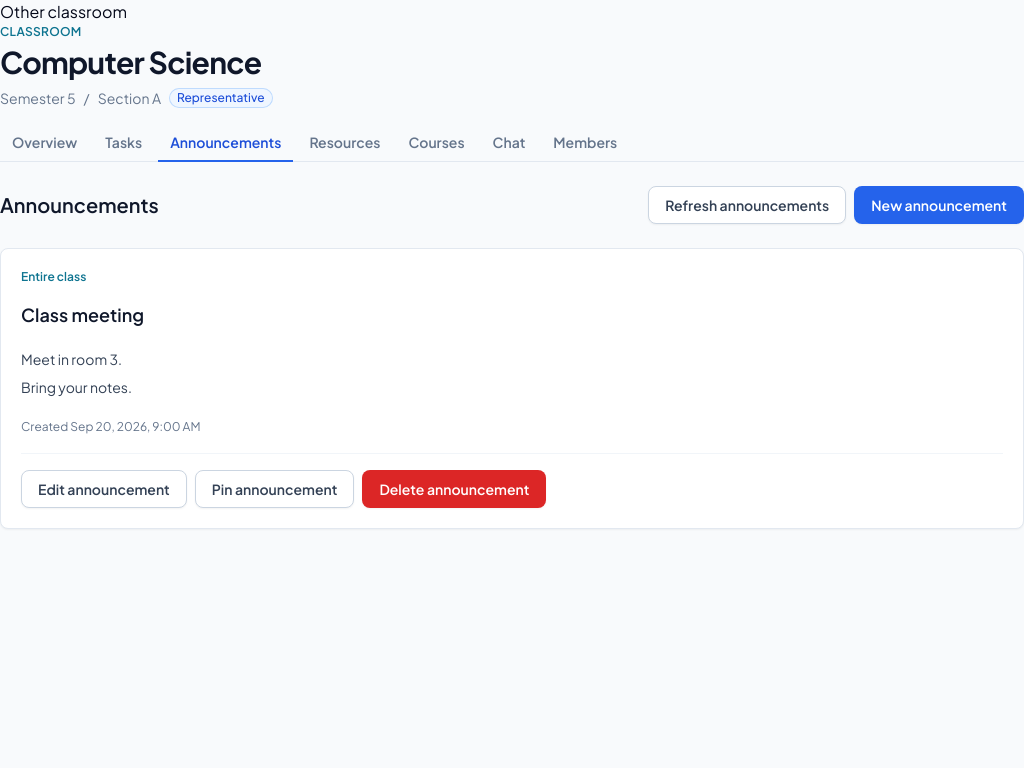
class announcements › preserves a failed form and submits Entire class as null on retry
The width and height of the screenshot is (1024, 768).
Click the button "New announcement": [939, 205] box [854,186,1023,224]
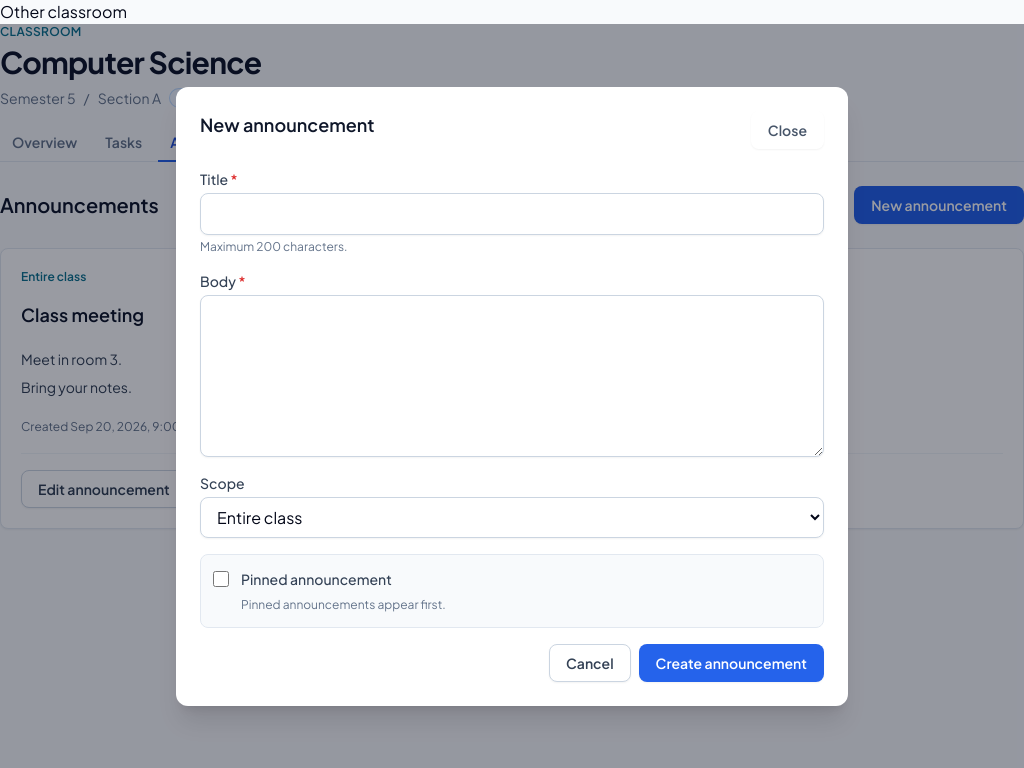
In the field labelled "Title *": [512, 214] box [200,192,824,234], type "Exam update"
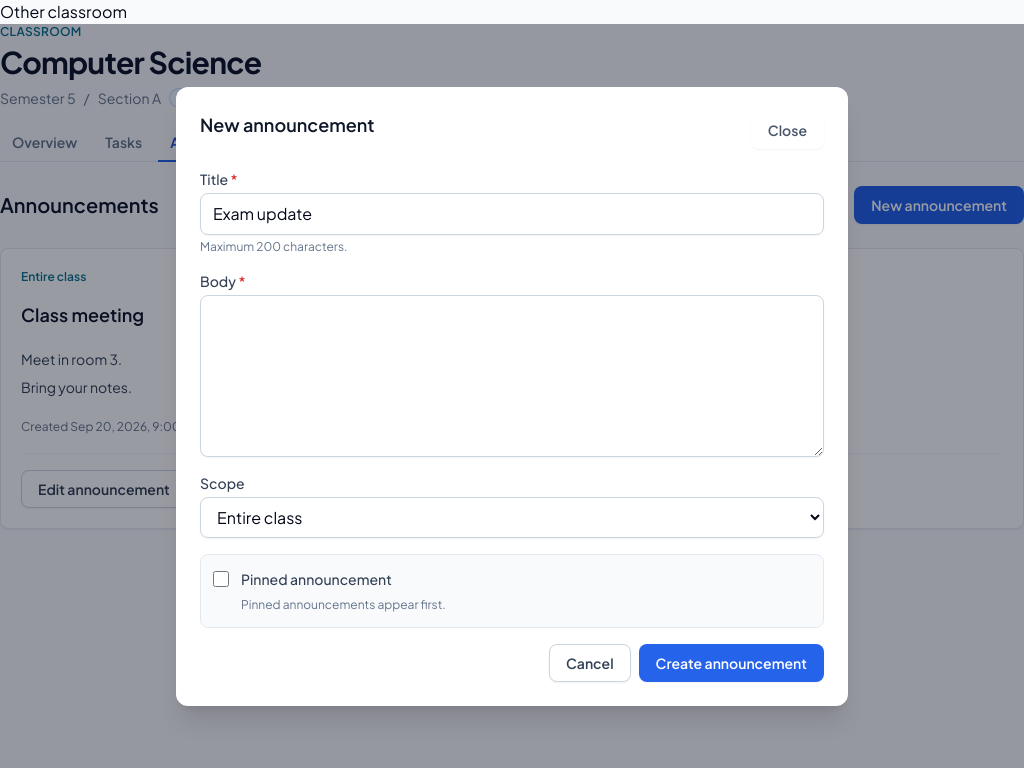
In the text box labelled "Body *": [512, 376] box [200,294,824,456], type "Bring a calculator."
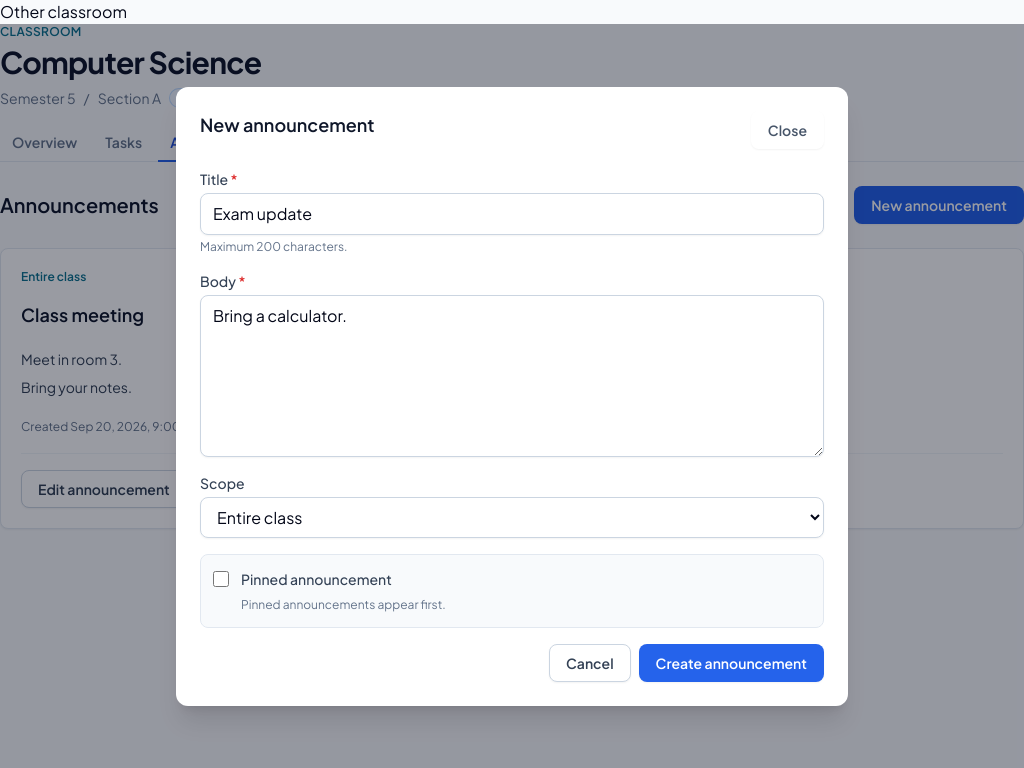
Click the button "Create announcement": [731, 662] box [639,644,824,682]
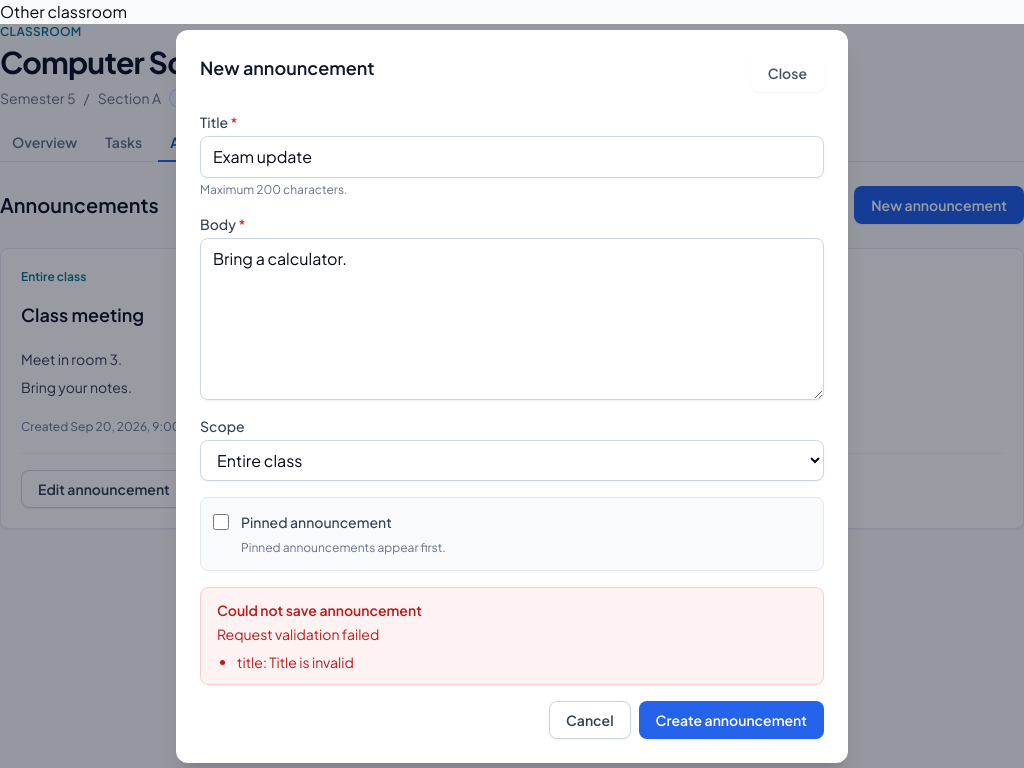
Check: the list item "title: Title is invalid" is shown, box [237,652,354,670]
Click the button "Create announcement": [731, 720] box [639,700,824,738]
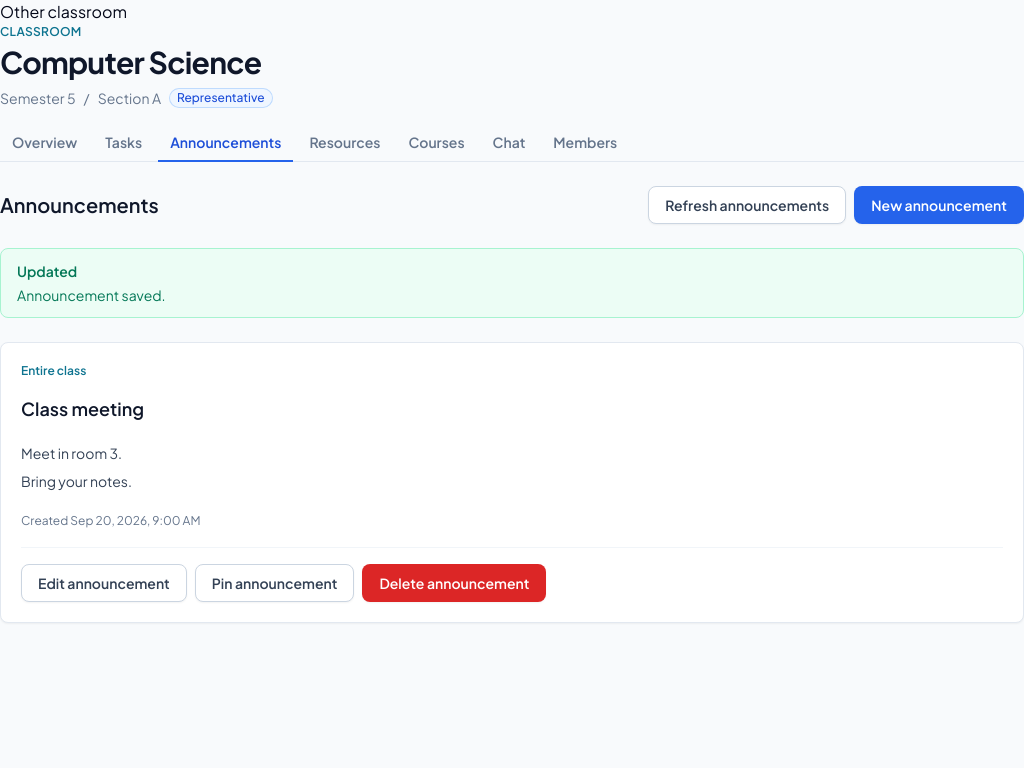
Check: the dialog is gone
